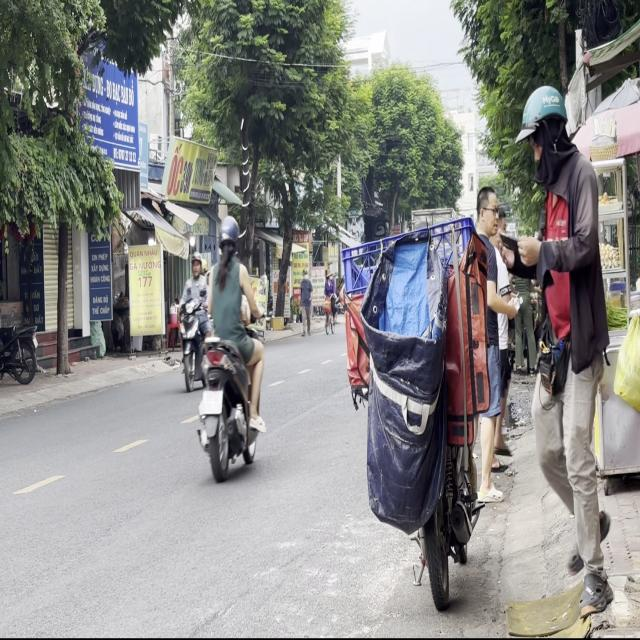helmet: (217, 214, 239, 258)
licenseplate: (195, 212, 266, 480)
nohelmet: (200, 391, 222, 414)
